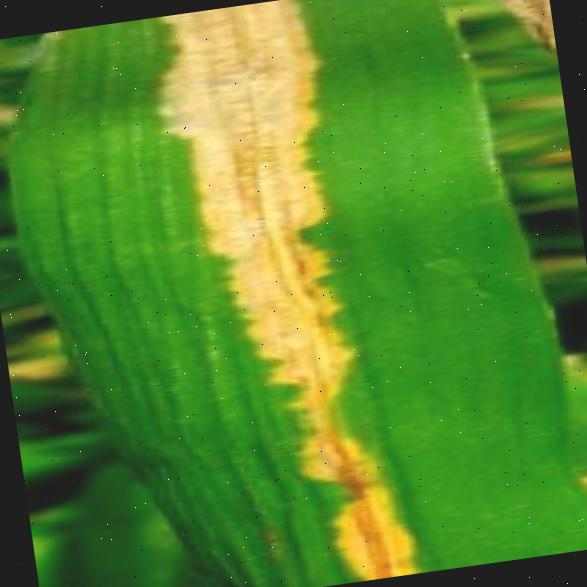Bacteria_Leaf_Blight: (7, 0, 587, 587)
